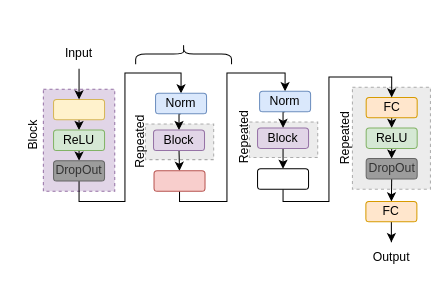
Some shapes in this 448 by 290 pixel diagram are drawn without their labels. Each missing label, with the centre of its shape:
"Conv2d" belongs at pixel 79 109.
"Flatten" belongs at pixel 283 178.
"N layers" belongs at pixel 183 53.
"Pool2d" belongs at pixel 179 180.
